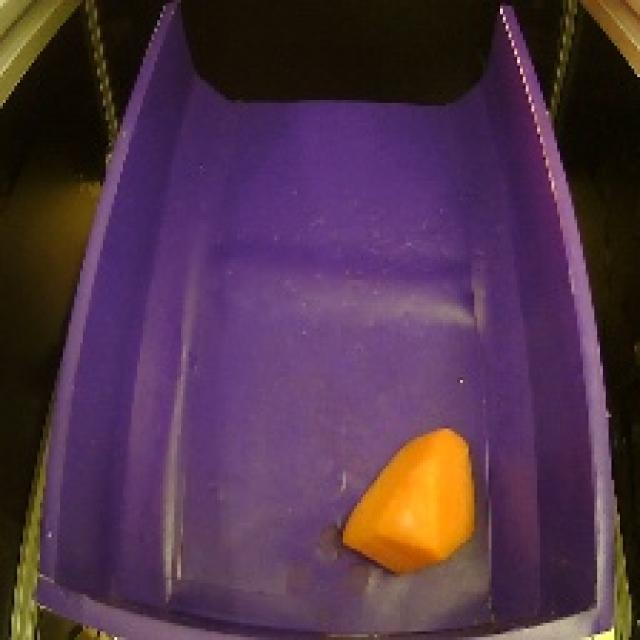carrots: (329, 418, 483, 577)
